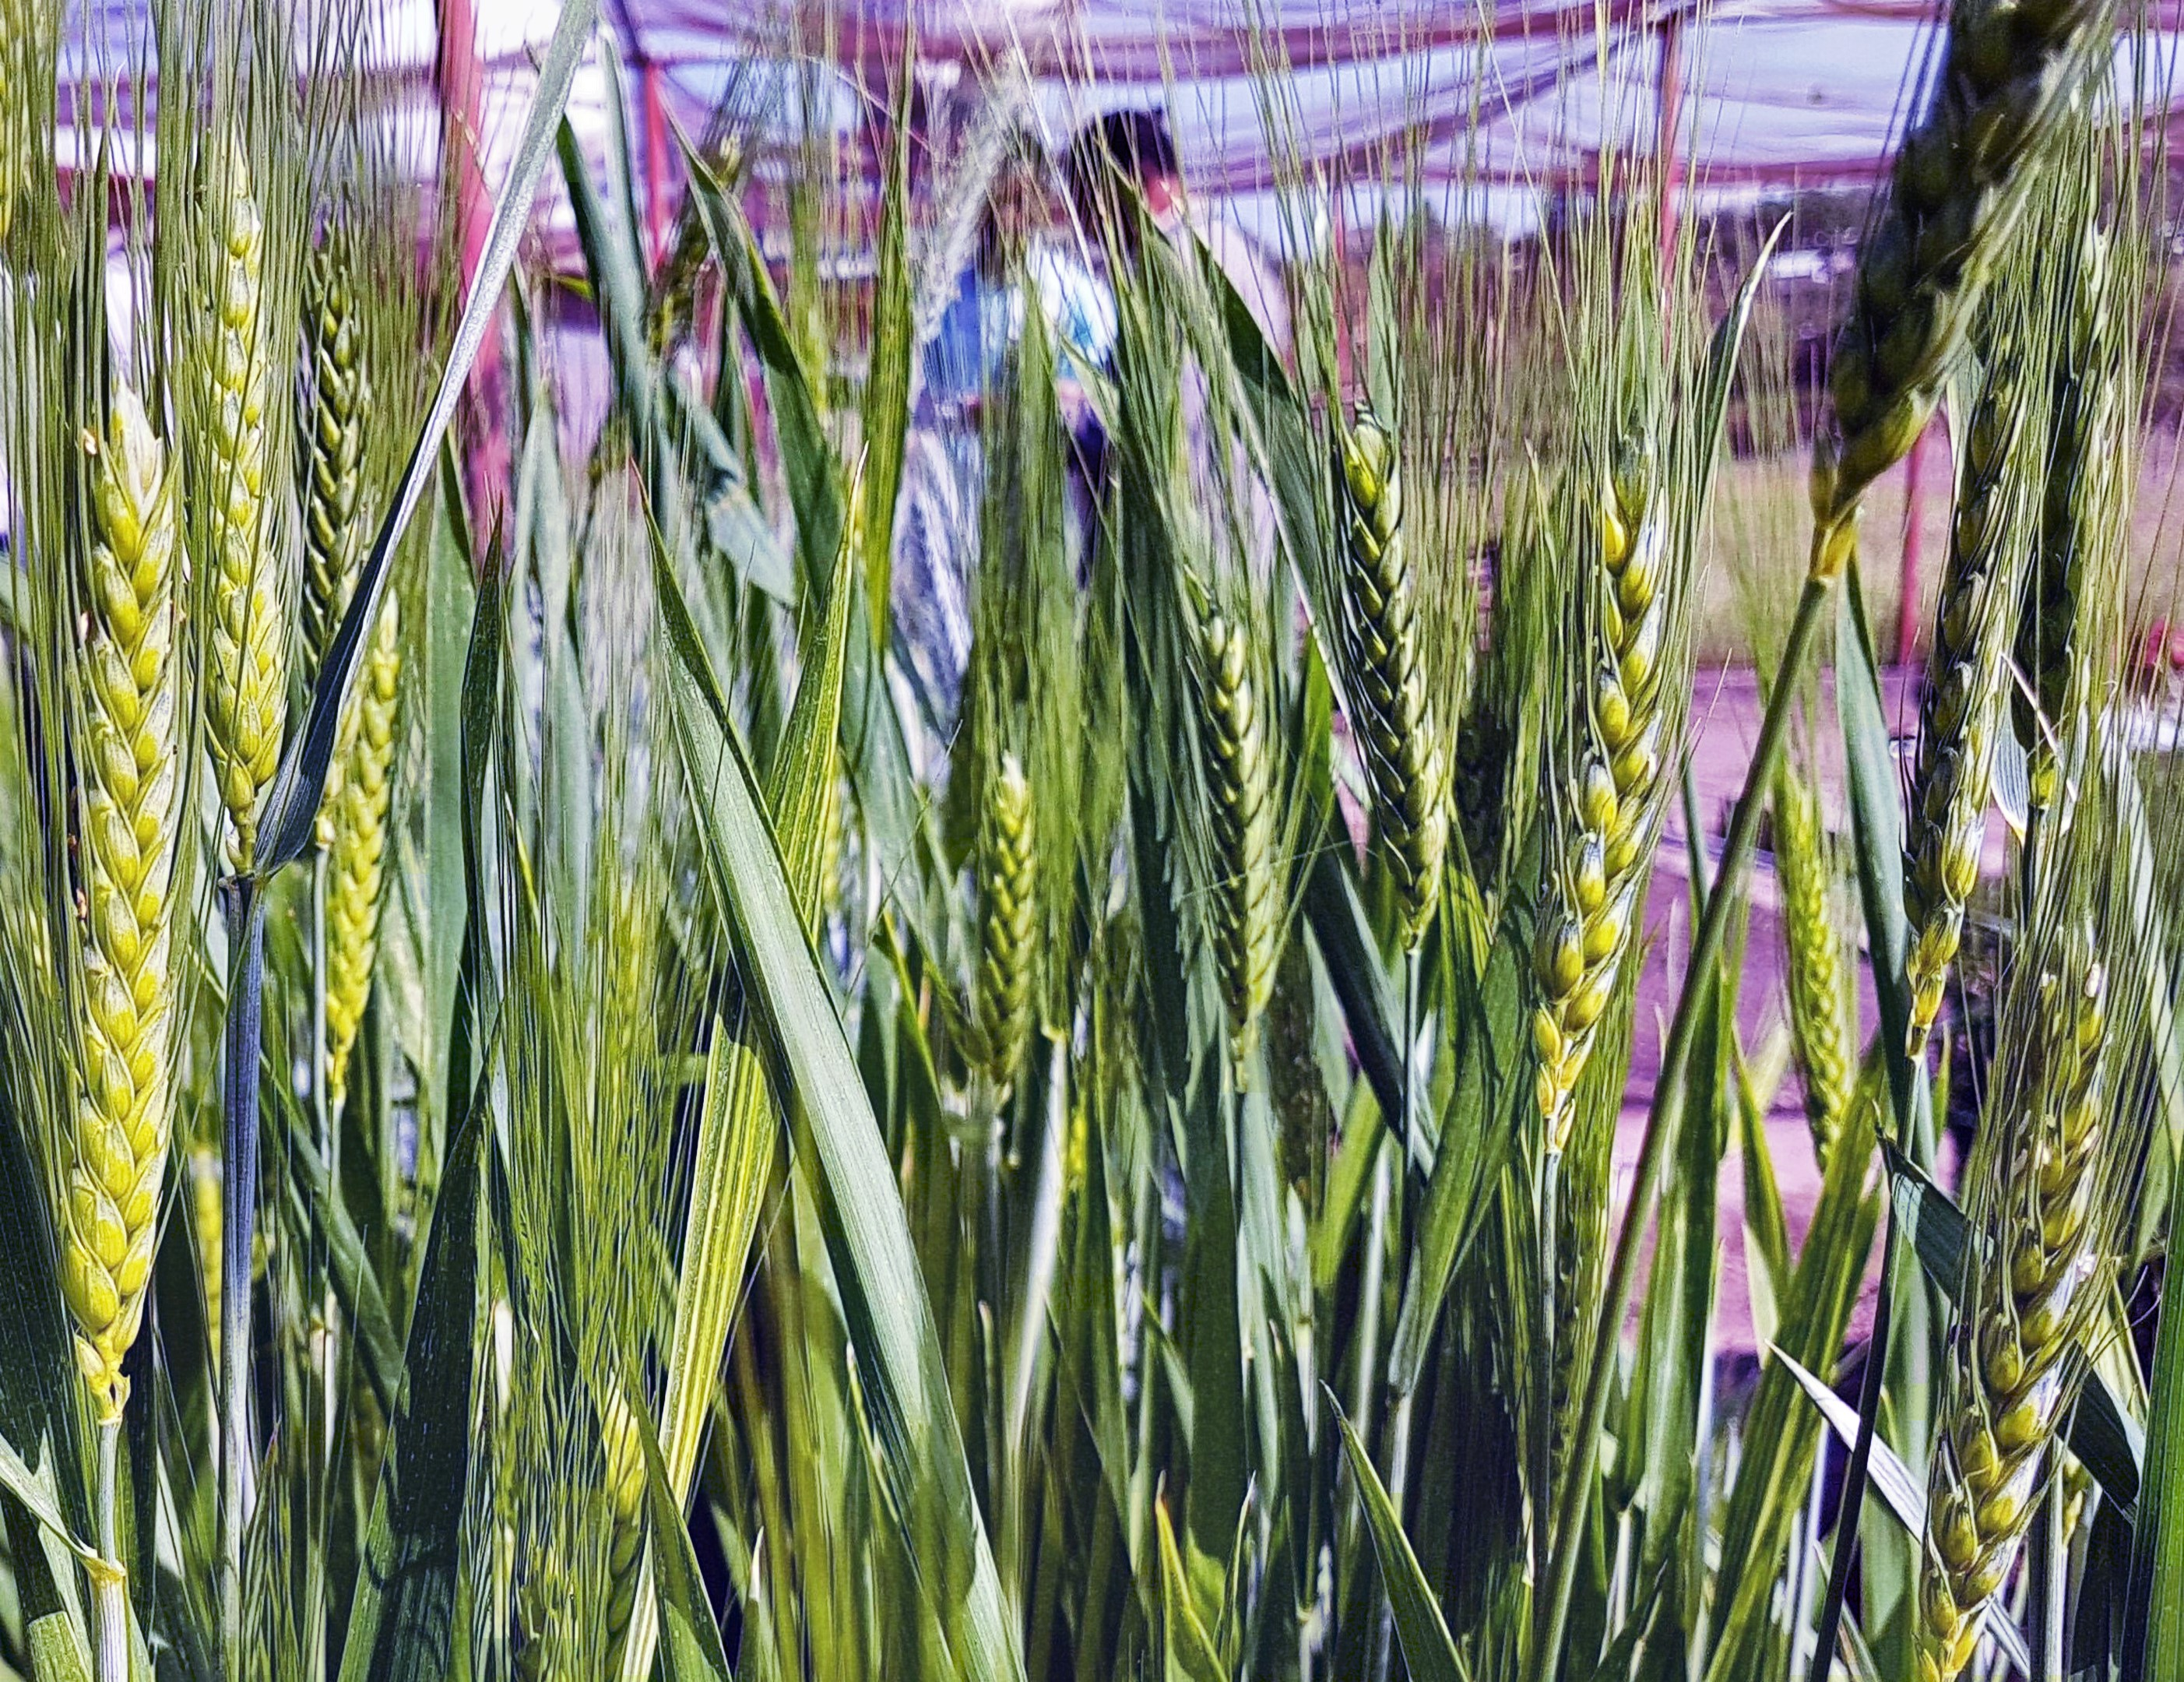Healthy Wheat: (19, 428, 219, 1373), (1532, 454, 1714, 1097), (1311, 410, 1452, 917)
